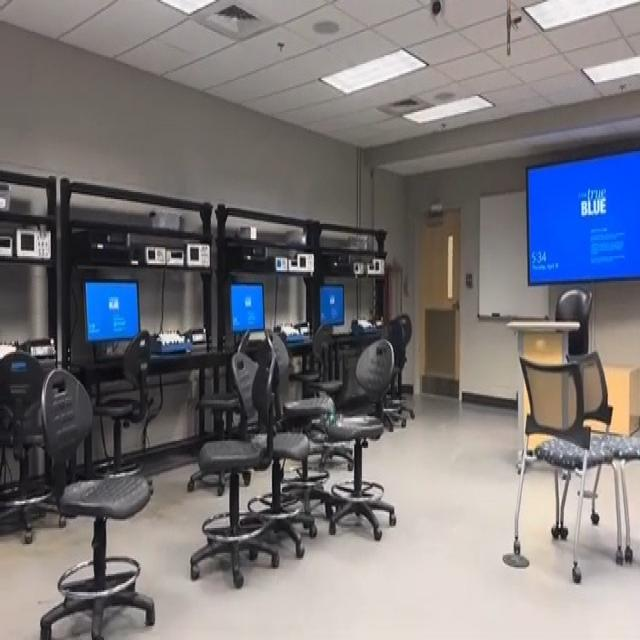drone: (313, 395, 356, 449)
